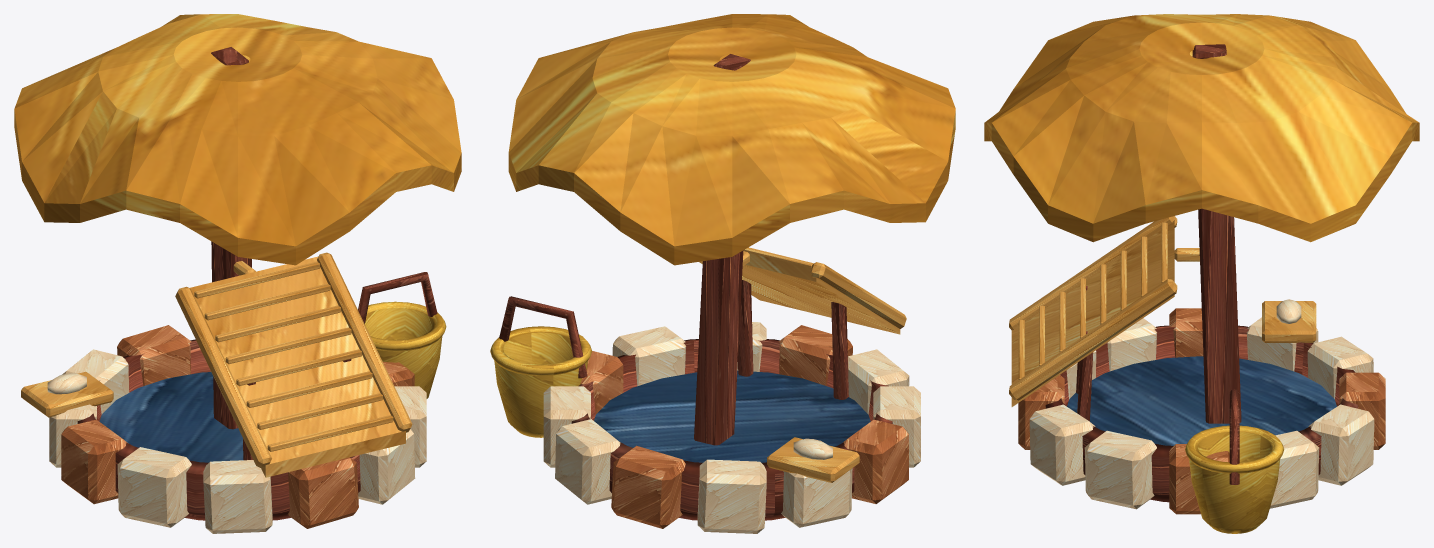
File: revised-10-05.glb
The picture shows the model from 3 angles, left to right: view 1: azimuth 30°, elevation 25°; view 2: azimuth 150°, elevation 25°; view 3: azimuth 270°, elevation 25°; orthographic projection. The views are drawn at different scales.
Visible parts, largest first — view 1: mushroom_wash; view 2: mushroom_wash; view 3: mushroom_wash.
Boxes of the visible parts, <box> form: mushroom_wash: <box>14,14,461,533</box>; mushroom_wash: <box>490,14,955,533</box>; mushroom_wash: <box>984,14,1419,533</box>.
Size of the model in its own units: 1.71 by 1.59 by 1.6.
Materials: 1 (1 with a texture image).
